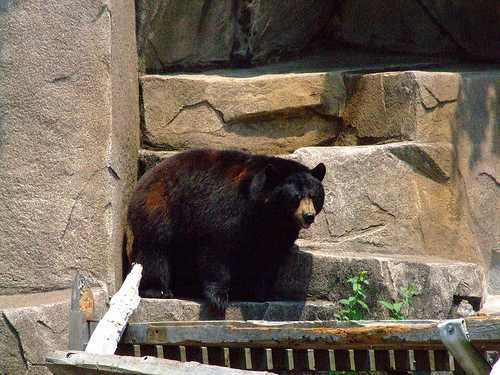bear: (216, 138, 344, 266)
